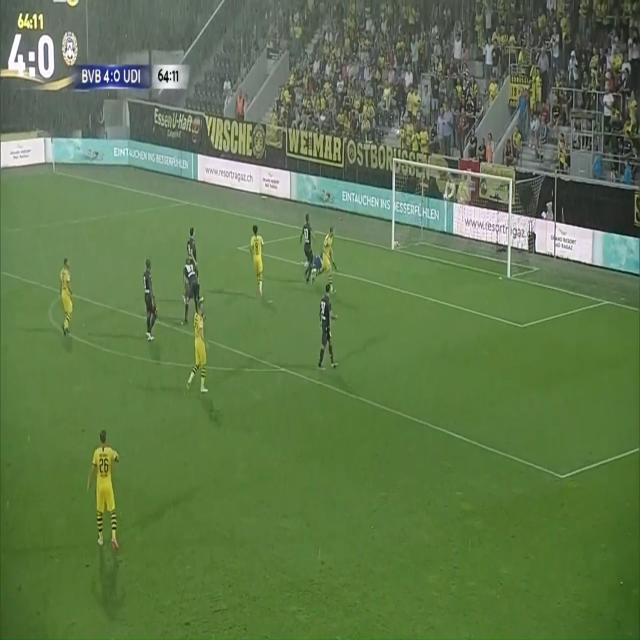goalkeeper: (306, 251, 336, 276)
player: (86, 423, 129, 556), (314, 282, 346, 390), (185, 296, 212, 401), (246, 218, 275, 304), (182, 225, 212, 301), (182, 262, 207, 329), (142, 252, 160, 344), (59, 244, 74, 345), (297, 209, 315, 286), (320, 230, 338, 279)
